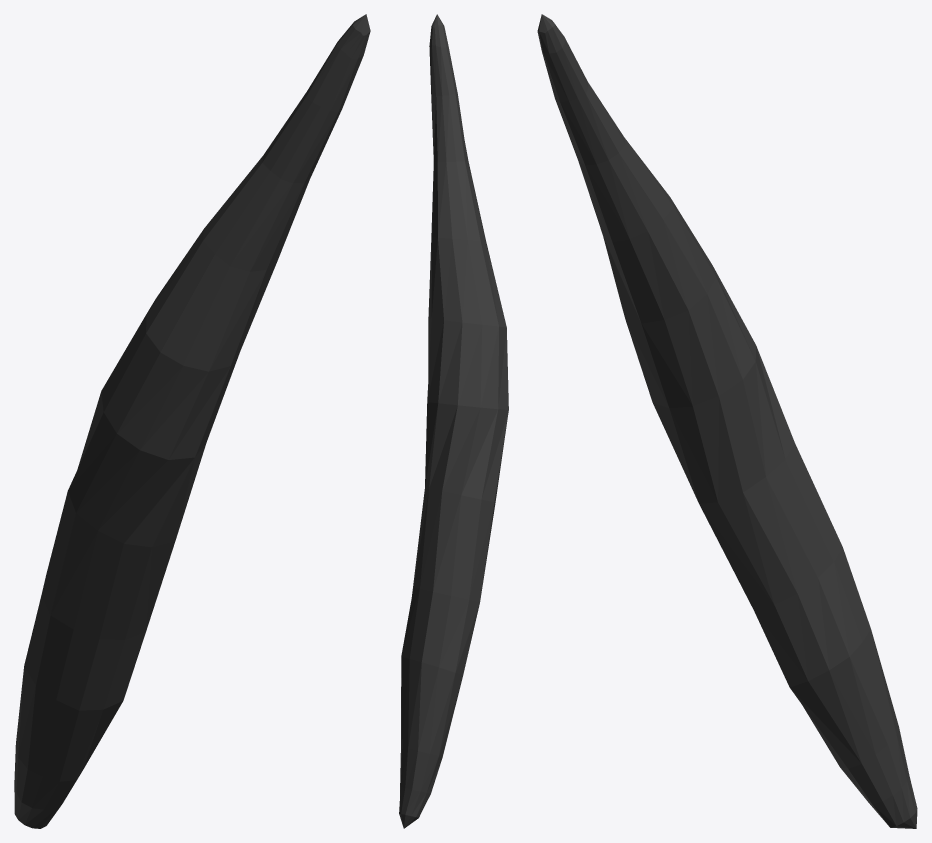
Rendered from LatDigExtensor.glb.
The picture shows the model from 3 angles, left to right: view 1: azimuth 30°, elevation 25°; view 2: azimuth 150°, elevation 25°; view 3: azimuth 270°, elevation 25°; orthographic projection. The views are drawn at different scales.
Parts seen in each view (by area): view 1: LatDigExtensor; view 2: LatDigExtensor; view 3: LatDigExtensor.
Boxes of the visible parts, <box> form: LatDigExtensor: <box>14,14,370,828</box>; LatDigExtensor: <box>399,14,508,828</box>; LatDigExtensor: <box>537,14,917,828</box>.
Bounding box in the file's own units: 0.7131 × 3.27 × 1.27.
Materials: 1 (1 with a texture image).
